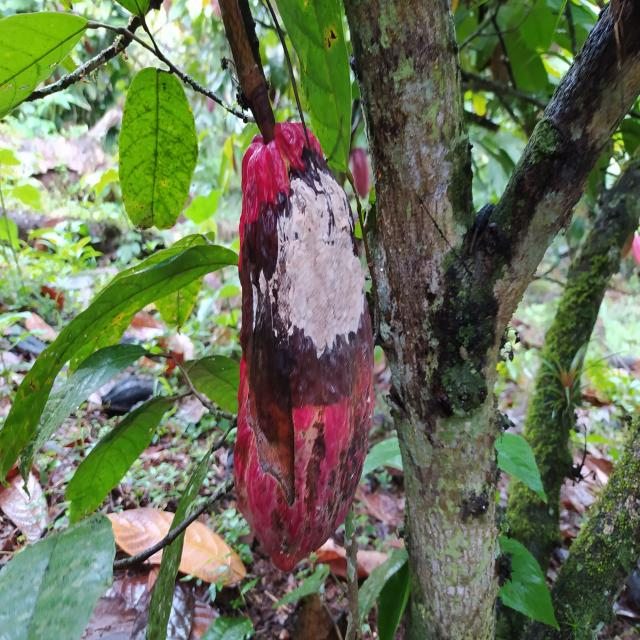Monilia: (232, 122, 374, 574)
